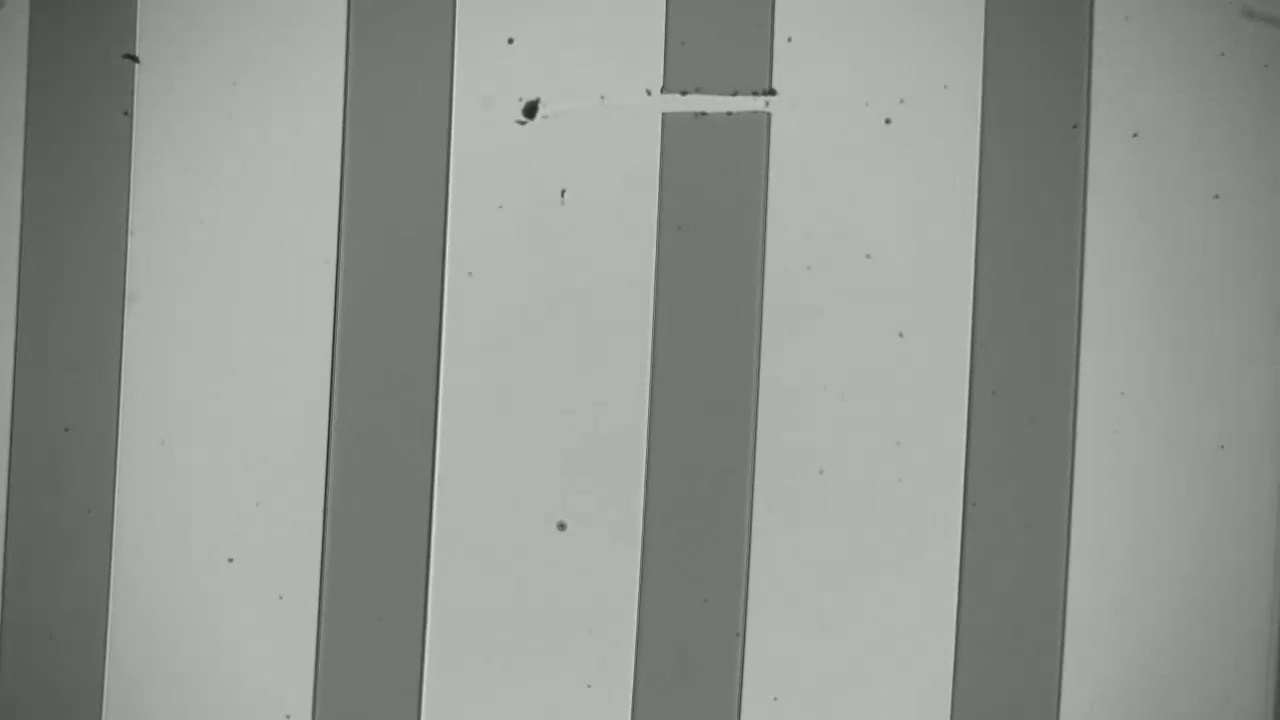Short_circuit: (624, 64, 800, 138)
